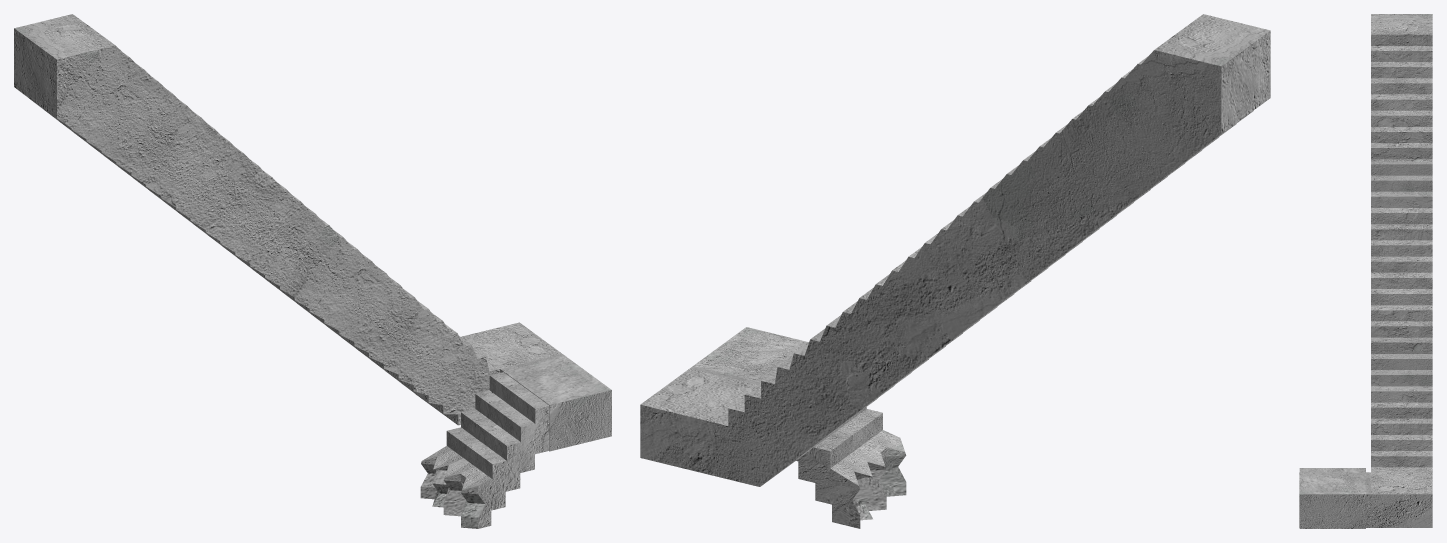
The model's file is Stairs.fbx.
3 renders of one model, left to right at view 1: azimuth 30°, elevation 25°; view 2: azimuth 150°, elevation 25°; view 3: azimuth 270°, elevation 25°, orthographic. The views are drawn at different scales.
Visible parts, largest first — view 1: Cube; view 2: Cube; view 3: Cube.
Boxes of the visible parts, box(x1,y1,x2,y2) form: Cube: box(14, 14, 611, 528); Cube: box(640, 14, 1270, 528); Cube: box(1299, 14, 1432, 528).
Bounding box in the file's own units: 1016 × 1007 × 322.
